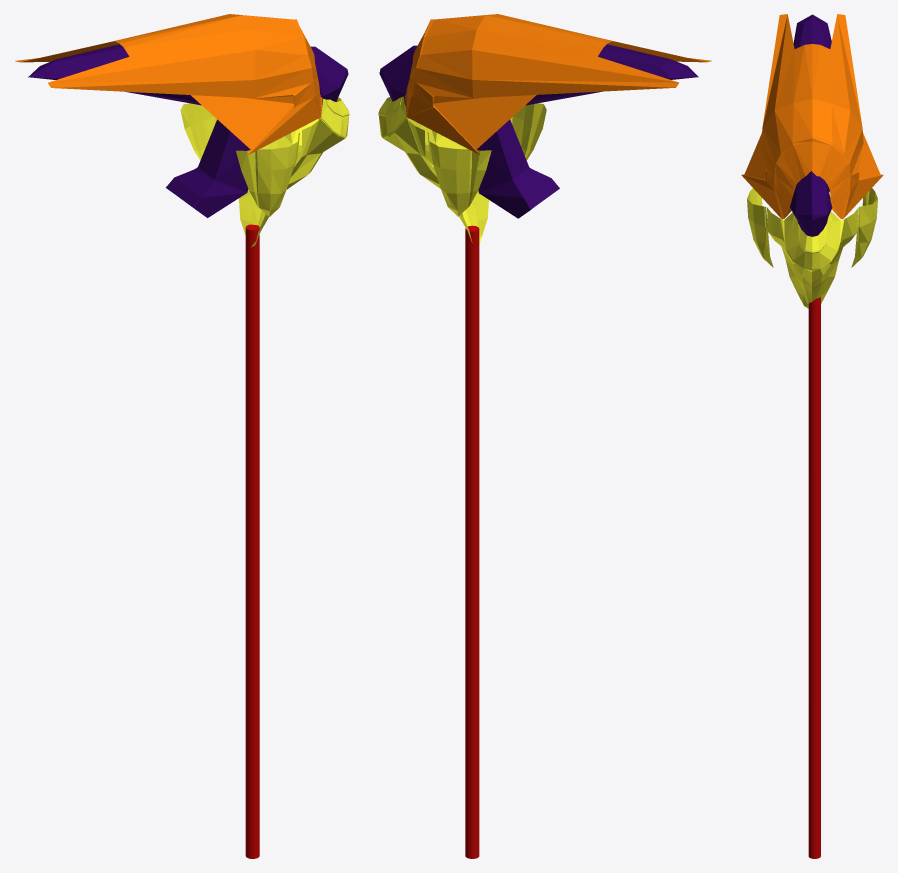
File: drone.fbx
3 renders of one model, left to right at view 1: azimuth 30°, elevation 25°; view 2: azimuth 150°, elevation 25°; view 3: azimuth 270°, elevation 25°, orthographic. The views are drawn at different scales.
Parts seen in each view (by area): view 1: Cube3_1, Group1, Cube2_1, Cube9_1, Cube11_1, Cube10_1; view 2: Cube3_1, Group1, Cube2_1, Cube9_1, Cube10_1, Cube11_1; view 3: Cube3_1, Group1, Cube9_1, Cube2_1, Cube11_1, Cube10_1.
Boxes of the visible parts, x1,y1,x2,y2 form: Cube3_1: (15,14,322,155); Group1: (245,224,259,858); Cube2_1: (28,44,348,217); Cube9_1: (239,97,349,247); Cube11_1: (236,132,299,216); Cube10_1: (180,103,216,160); Cube3_1: (404,14,711,154); Group1: (465,225,479,858); Cube2_1: (379,44,698,218); Cube9_1: (378,96,488,244); Cube10_1: (427,132,491,216); Cube11_1: (510,103,546,160); Cube3_1: (741,14,883,219); Group1: (808,297,820,858); Cube9_1: (767,207,858,308); Cube2_1: (790,14,832,236); Cube11_1: (747,188,773,267); Cube10_1: (851,188,877,267).
Size of the model in its own units: 267 by 673 by 116.
